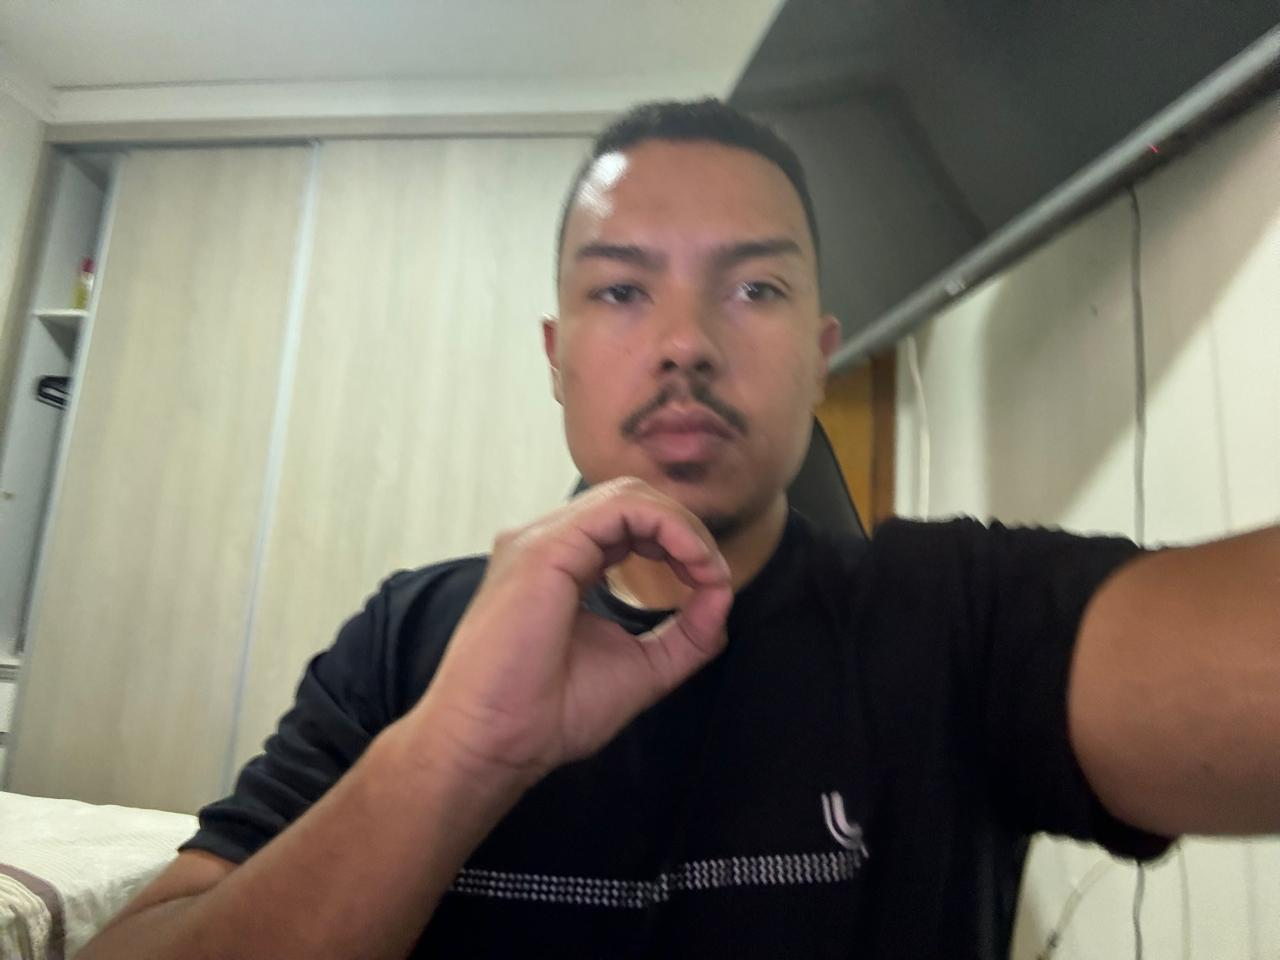o: (425, 466, 739, 768)
